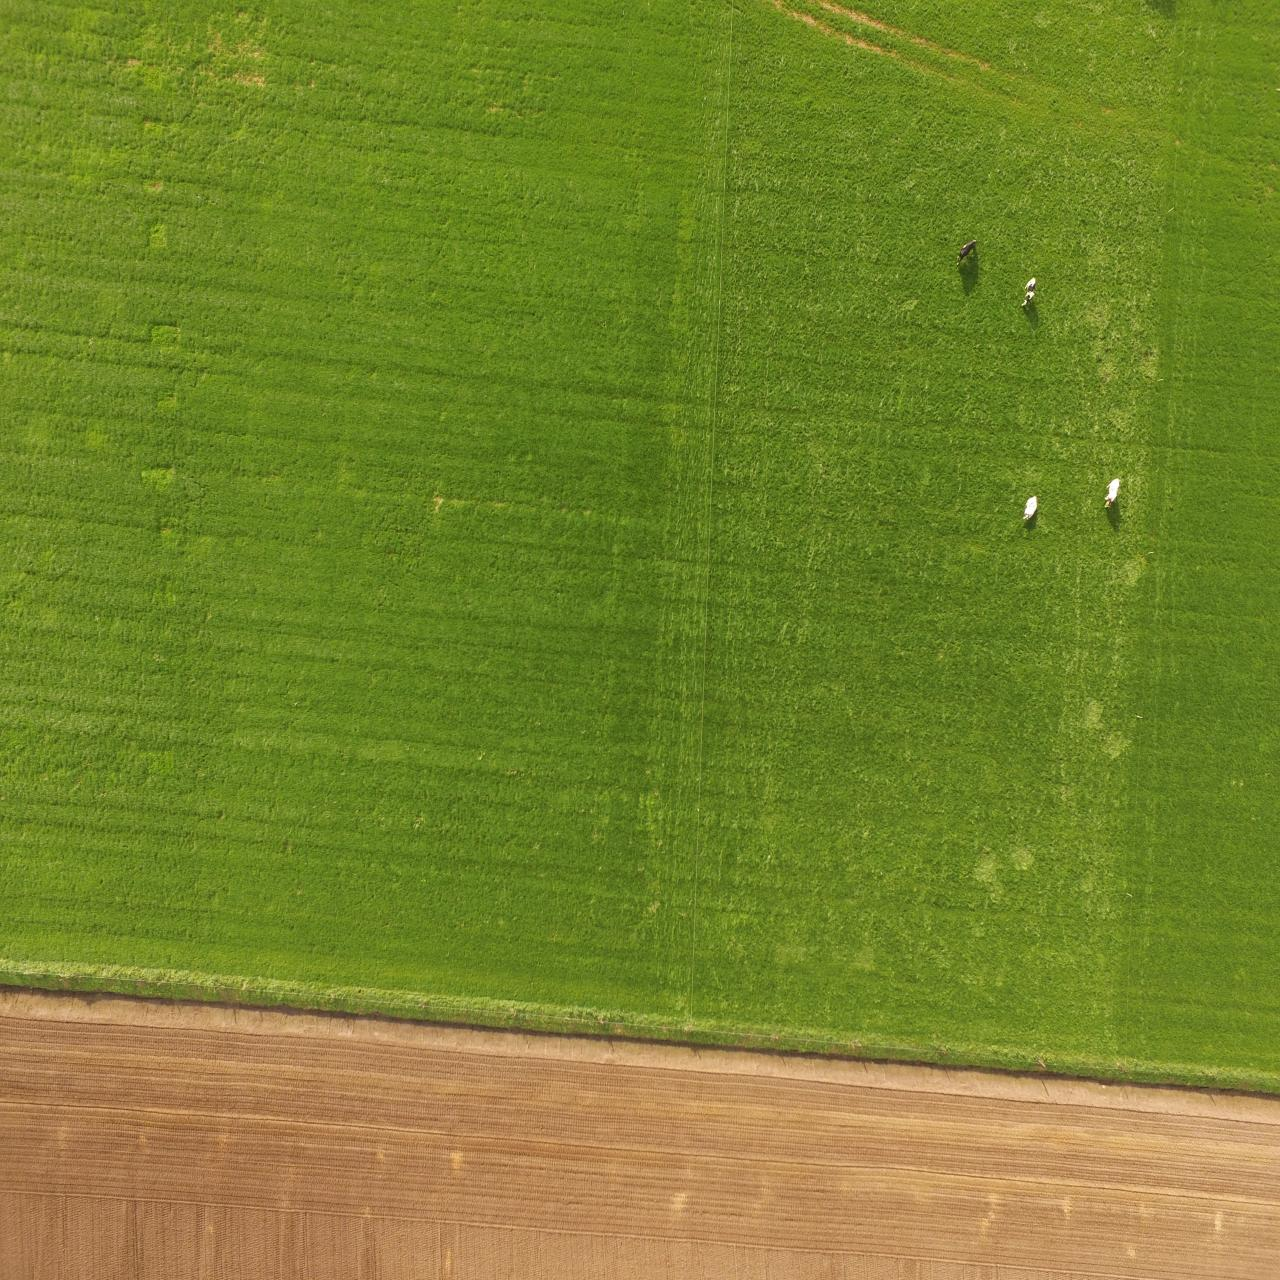cow: (955, 240, 985, 295), (1016, 488, 1042, 535), (1019, 270, 1040, 322), (1101, 471, 1124, 515)
